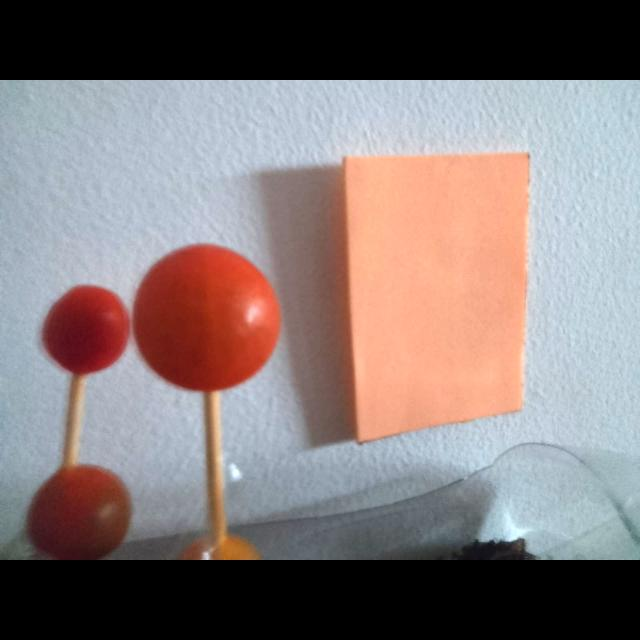card: (343, 153, 529, 442)
fruit_maturation: (133, 244, 280, 560), (27, 285, 132, 560)
